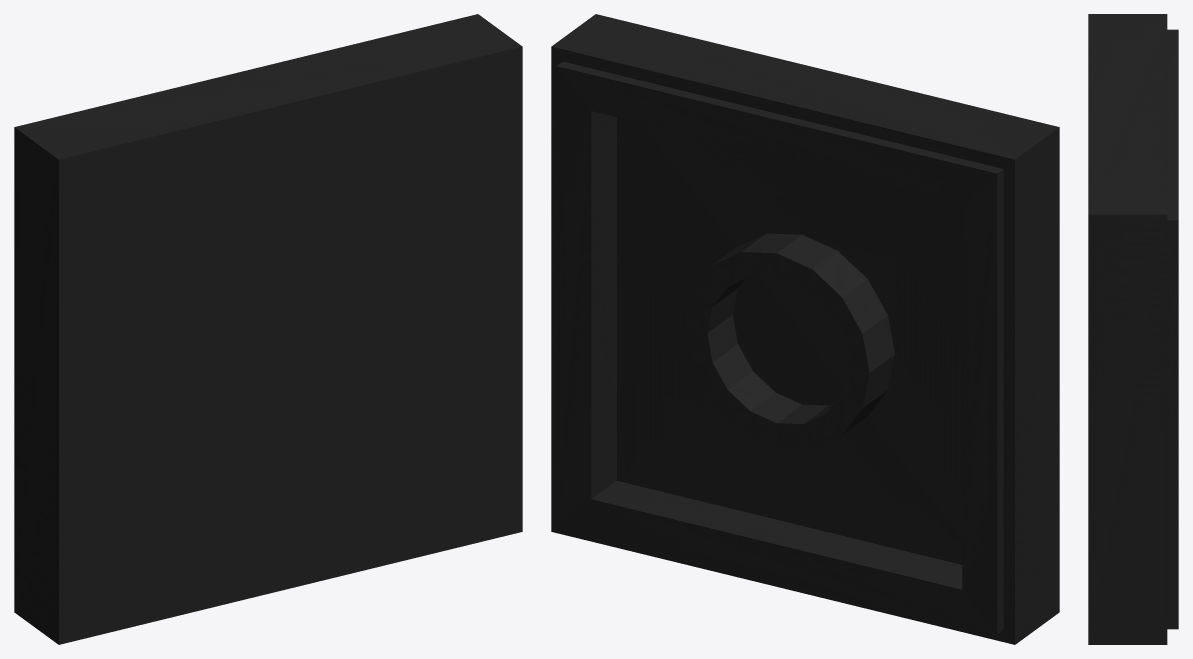
Rendered from flat_tile_2x2.dae.
3 renders of one model, left to right at view 1: azimuth 30°, elevation 25°; view 2: azimuth 150°, elevation 25°; view 3: azimuth 270°, elevation 25°, orthographic. The views are drawn at different scales.
Parts seen in each view (by area): view 1: node; view 2: node; view 3: node.
Part boxes in pixels (<box>): node: <box>14,14,522,644</box>; node: <box>551,14,1059,644</box>; node: <box>1088,14,1178,644</box>.
Bounding box in the file's own units: 39.5 × 39.5 × 7.5.
Materials: 1 (1 with a texture image).
